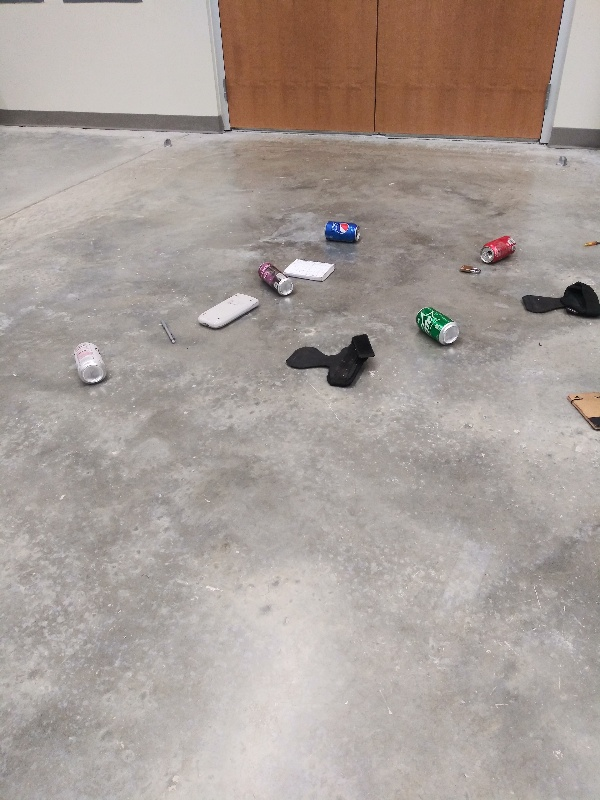can: (68, 339, 117, 386), (411, 307, 462, 349), (253, 261, 296, 299), (477, 232, 521, 267), (322, 216, 364, 247)
